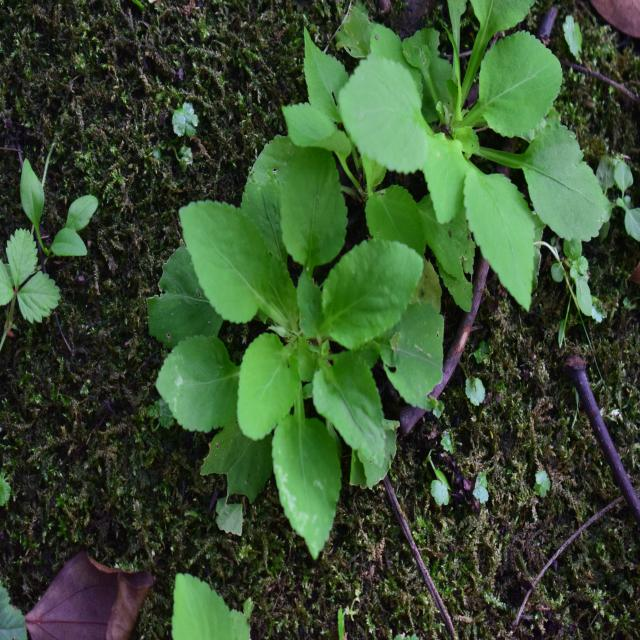Viola: (170, 140, 426, 513), (361, 3, 597, 304)
